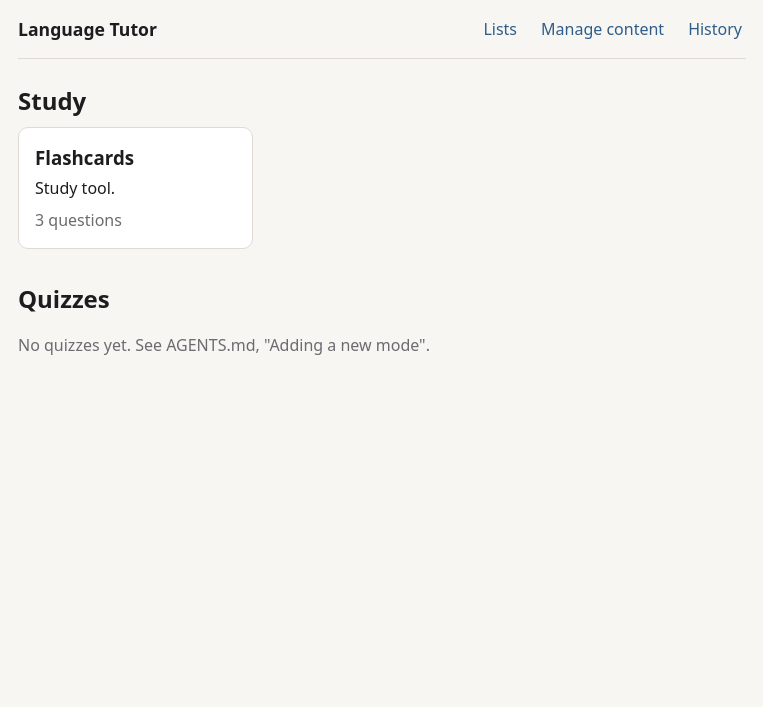
App › the brand button returns home from setup
Click the button "Flashcards Study tool. 3 questions": (135,188) left=18, top=127, right=253, bottom=250
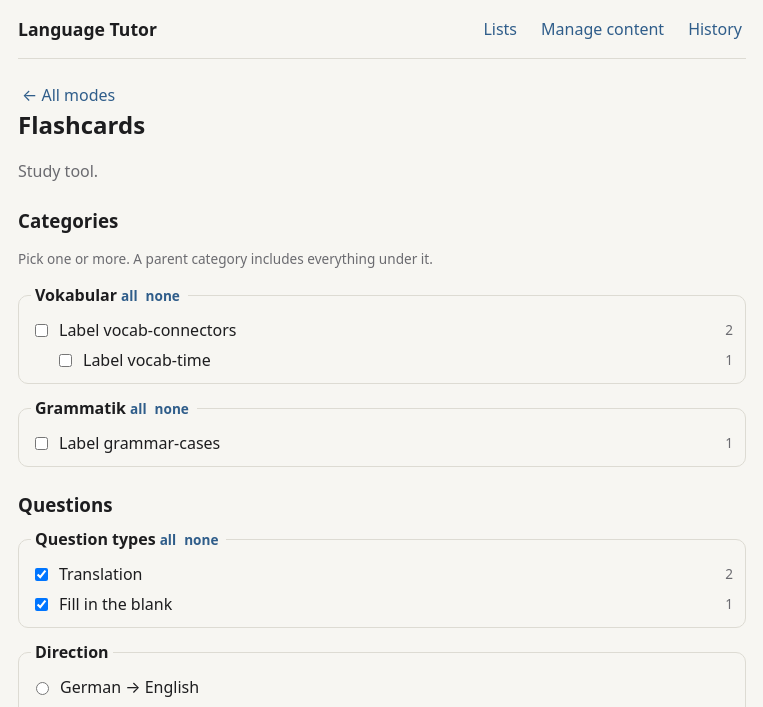
Expected: the heading "Flashcards" is shown, left=18, top=108, right=145, bottom=141
Click the button "Language Tutor": (88,29) left=18, top=16, right=157, bottom=42
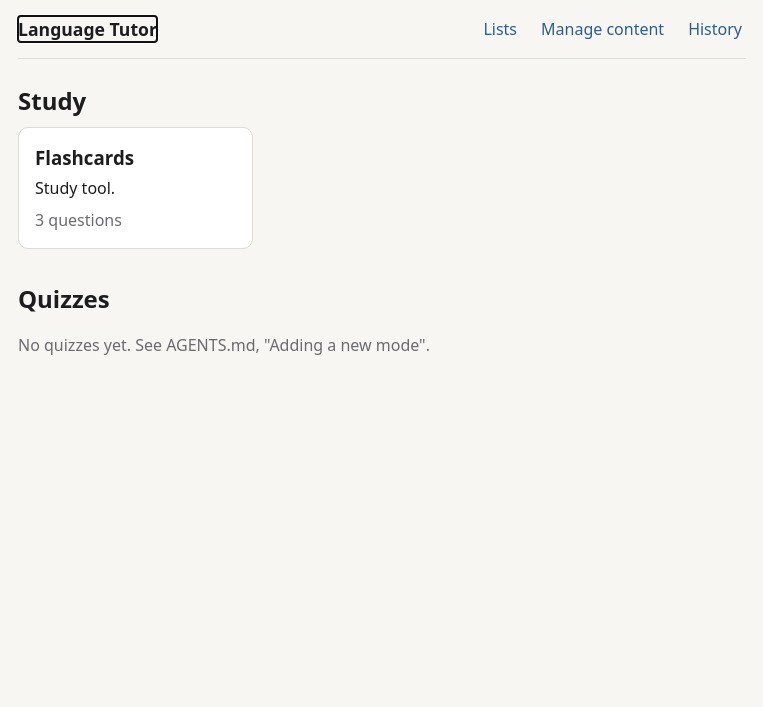
Expected: the heading "Study" is shown, left=18, top=84, right=86, bottom=117
